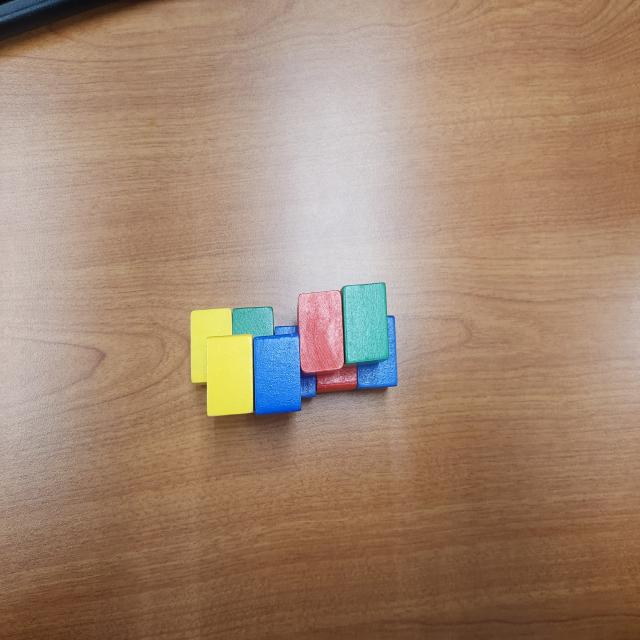blue: (253, 332, 302, 418), (355, 315, 398, 391), (274, 325, 317, 400)
green: (341, 281, 390, 368), (231, 306, 276, 336)
red: (298, 290, 346, 378), (315, 352, 358, 396)
yellow: (205, 336, 254, 416), (190, 307, 232, 384)
